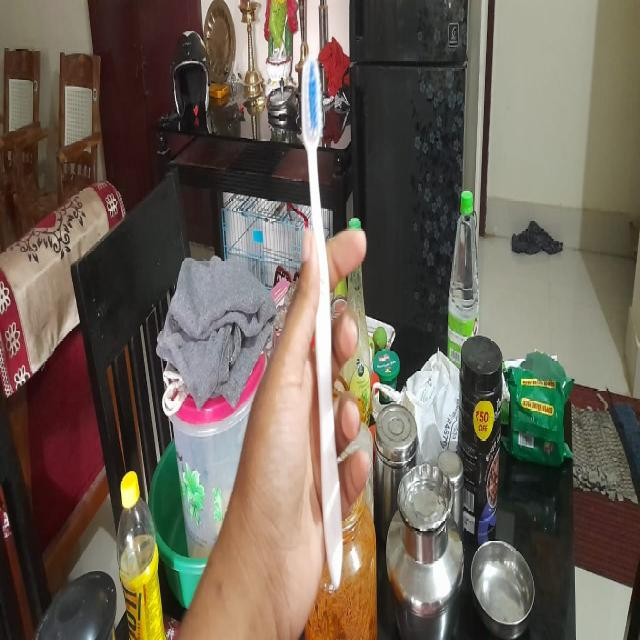Tooth_Brush - Non Recyclable: (283, 36, 349, 599)
